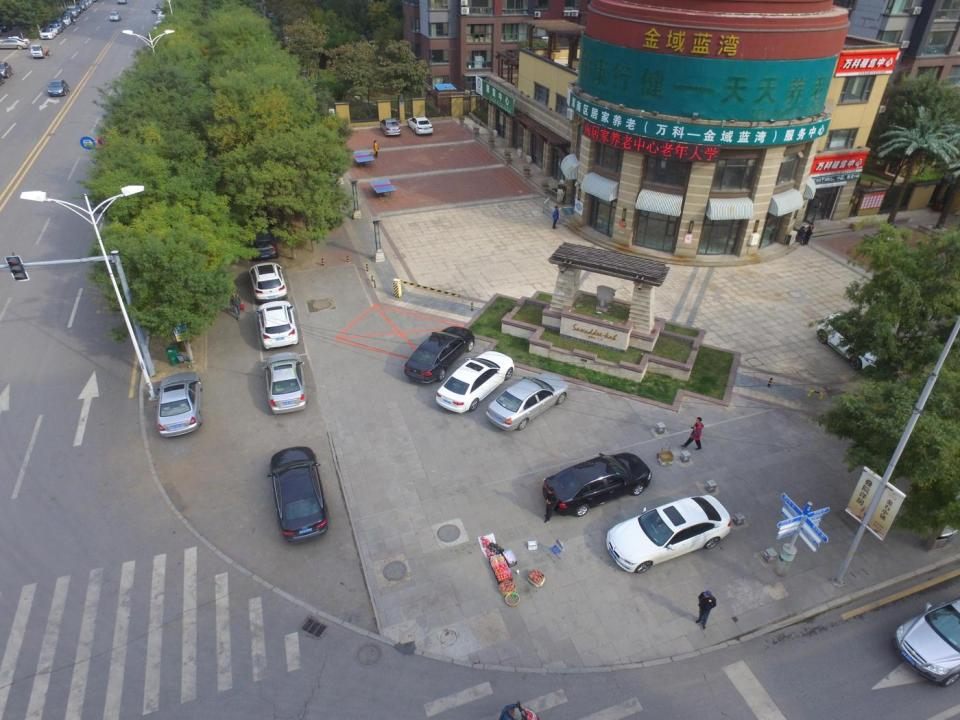car: (606, 496, 730, 579), (541, 450, 653, 519), (894, 603, 960, 694), (268, 447, 328, 541), (818, 310, 897, 378), (486, 370, 565, 434), (435, 350, 514, 412), (403, 328, 477, 383), (156, 374, 204, 437), (263, 354, 307, 417), (259, 300, 298, 347), (250, 262, 288, 302), (46, 78, 70, 98), (0, 39, 28, 50), (1, 35, 28, 45), (0, 61, 14, 78), (39, 28, 56, 39), (51, 18, 66, 30), (62, 10, 75, 22), (57, 16, 70, 27), (70, 4, 83, 15), (48, 24, 62, 34), (76, 2, 88, 12), (109, 11, 119, 22)
truck: (29, 42, 51, 58)
van: (66, 5, 79, 18)
